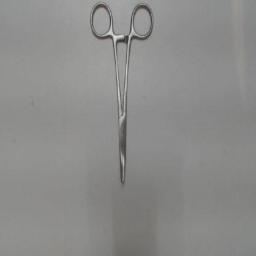Crile Artery Forceps: (88, 0, 156, 188)
